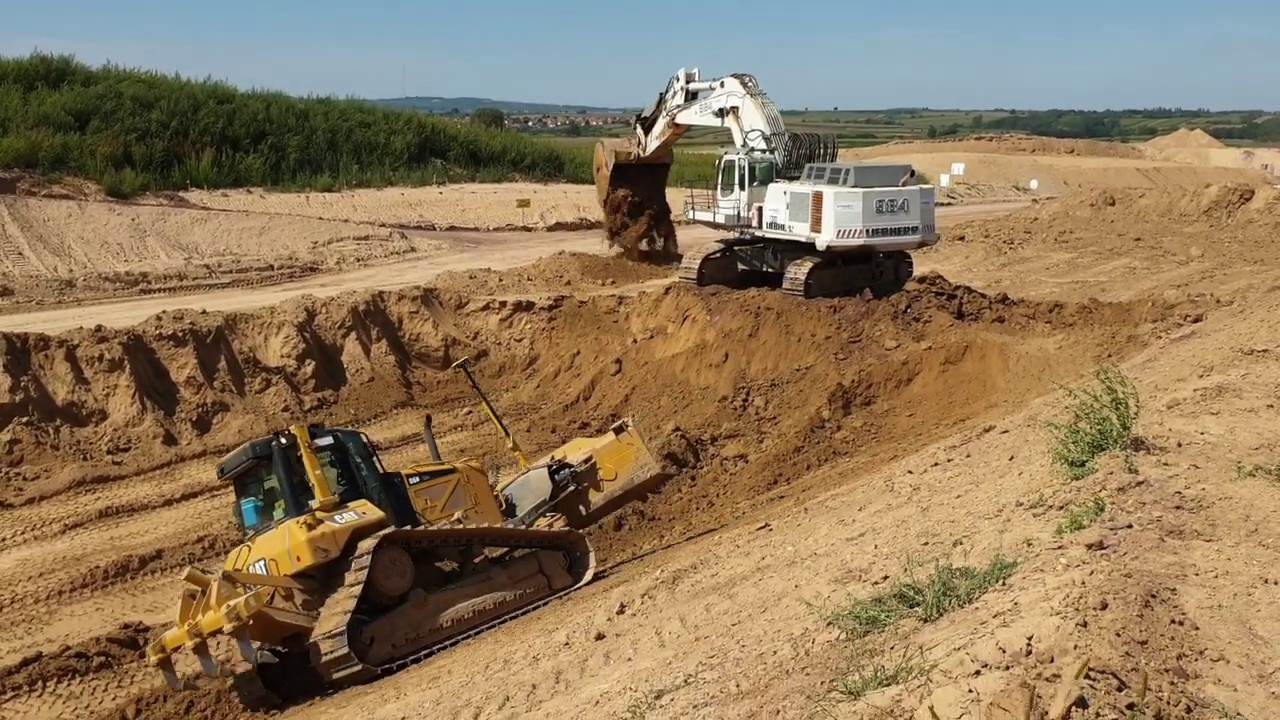bulldozer: (145, 351, 674, 714)
excavator: (585, 62, 945, 310)
